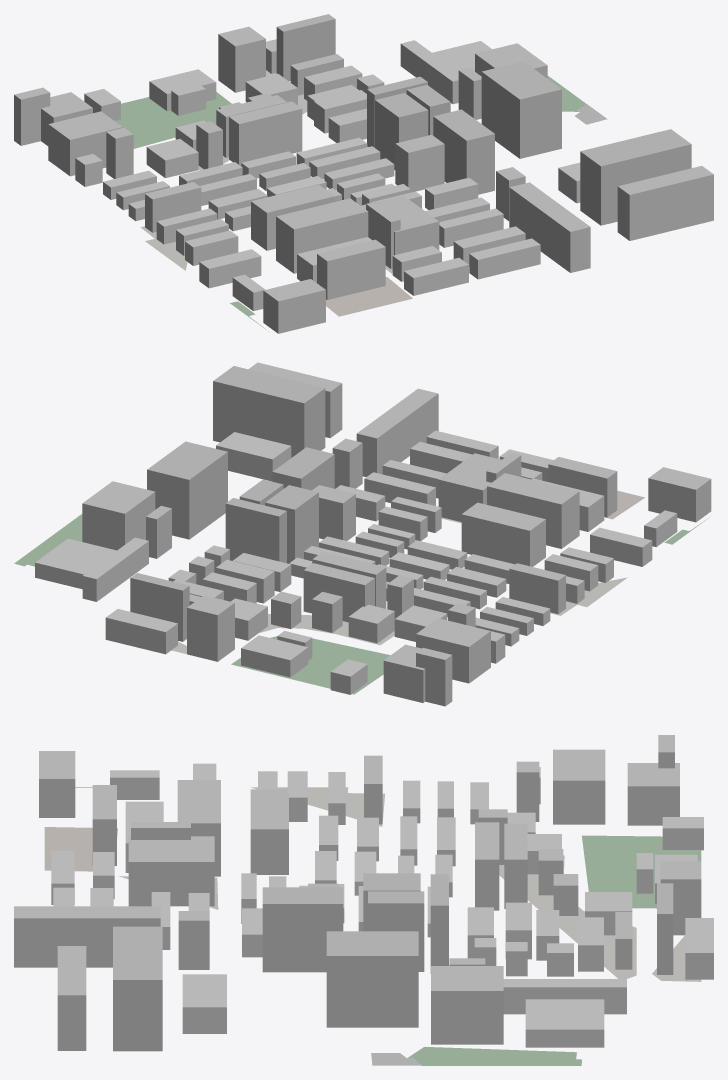
The model's file is 121_94_mid.glb.
3 renders of one model, top to bottom at view 1: azimuth 30°, elevation 25°; view 2: azimuth 150°, elevation 25°; view 3: azimuth 270°, elevation 25°, orthographic. The views are drawn at different scales.
Bounding box in the file's own units: 500 × 60.48 × 533.
